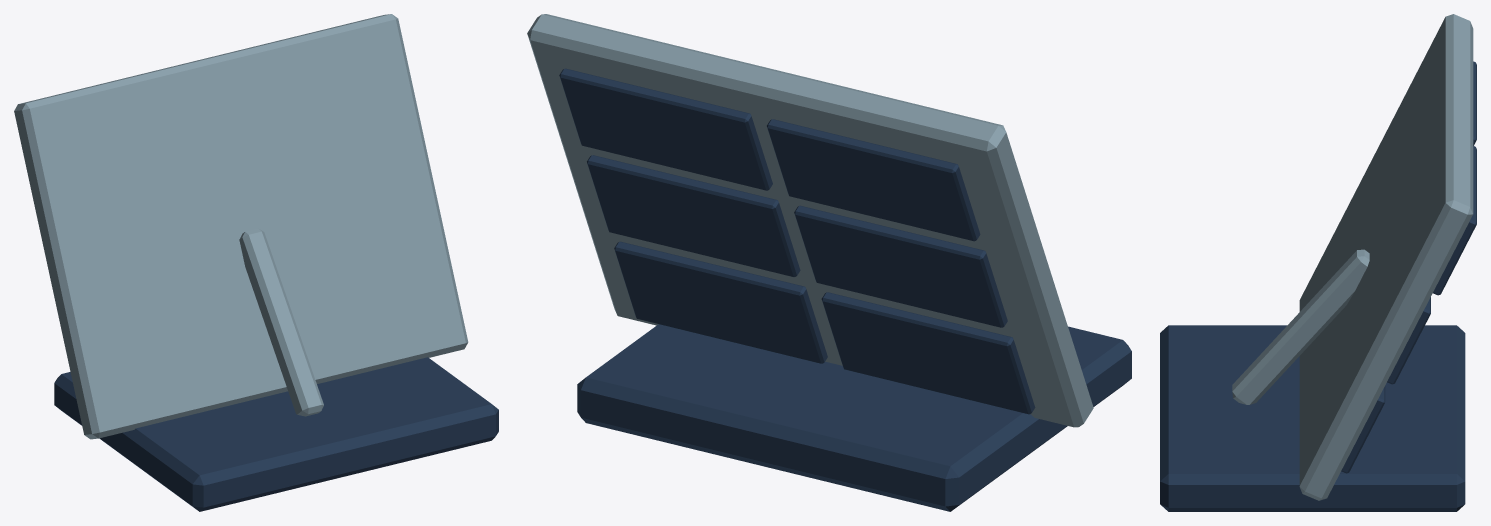
File: mini_solar_panel.glb
3 views of the same model, side by side, from view 1: azimuth 30°, elevation 25°; view 2: azimuth 150°, elevation 25°; view 3: azimuth 270°, elevation 25° (orthographic). The views are drawn at different scales.
Visible parts, largest first — view 1: panel_back, solar_support, solar_rear_leg; view 2: solar_cell (×6), panel_back, solar_support; view 3: solar_support, panel_back, solar_rear_leg, solar_cell (×3).
Boxes of the visible parts, box(x1,y1,x2,y2) form: panel_back: box(14, 14, 468, 439); solar_support: box(54, 357, 498, 511); solar_rear_leg: box(239, 228, 323, 416); solar_cell (×6): box(559, 68, 1035, 414); panel_back: box(527, 14, 1093, 427); solar_support: box(577, 324, 1131, 511); solar_support: box(1160, 325, 1465, 511); panel_back: box(1299, 14, 1473, 500); solar_rear_leg: box(1232, 249, 1369, 404); solar_cell (×3): box(1341, 146, 1476, 473).
Bounding box in the file's own units: 0.43 × 0.3467 × 0.301.
